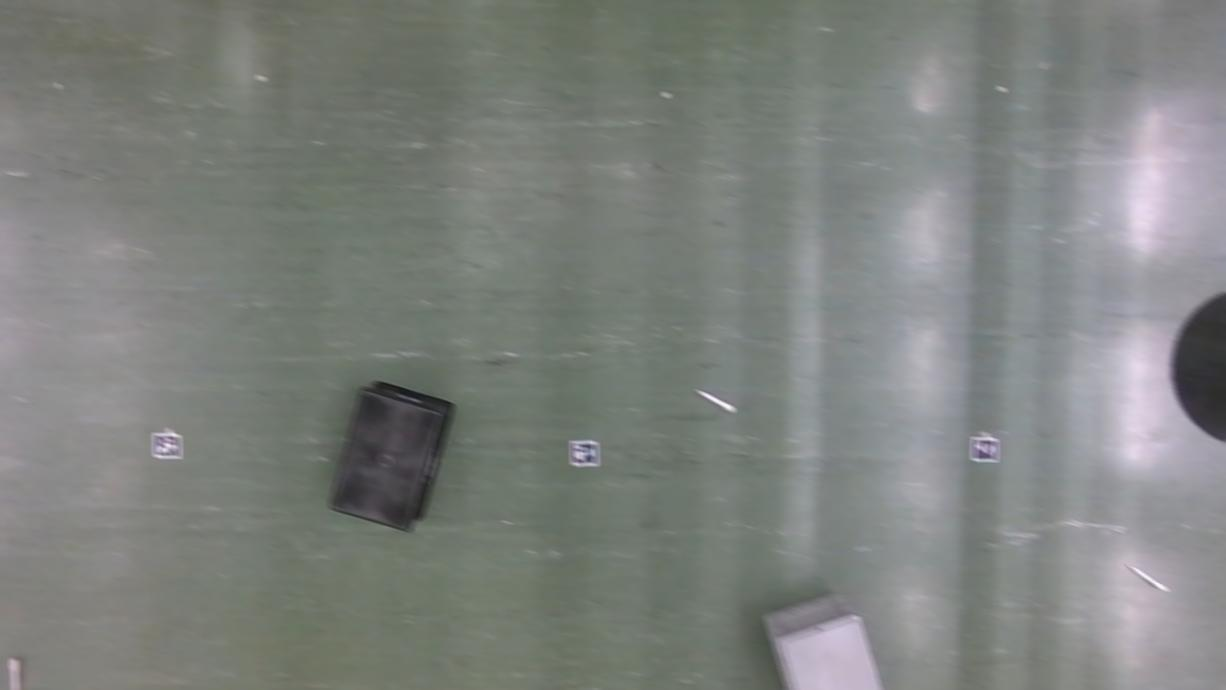probes: (1130, 562, 1166, 590), (700, 388, 734, 412), (10, 657, 21, 690)
rako: (329, 378, 454, 529), (761, 590, 883, 690)
